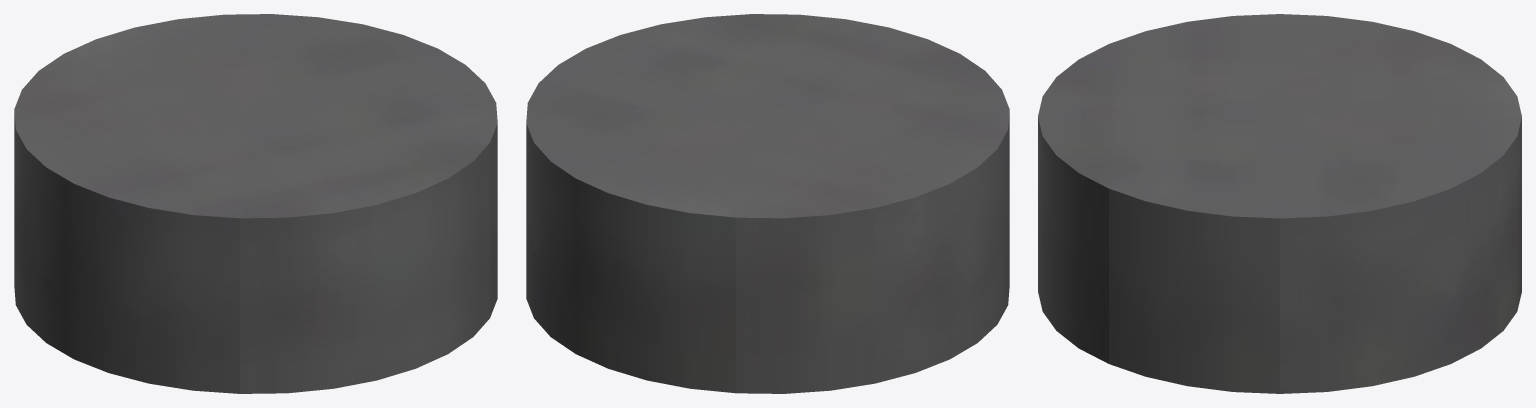
The model's file is selector_knob__knob_collar.glb.
3 renders of one model, left to right at view 1: azimuth 30°, elevation 25°; view 2: azimuth 150°, elevation 25°; view 3: azimuth 270°, elevation 25°, orthographic.
Parts seen in each view (by area): view 1: world; view 2: world; view 3: world.
Part boxes in pixels (x1=…): world: x1=14, y1=14, x2=497, y2=393; world: x1=526, y1=14, x2=1009, y2=393; world: x1=1038, y1=14, x2=1521, y2=393.
Bounding box in the file's own units: 0.02 × 0.008 × 0.02.
1 material, 1 textured.
